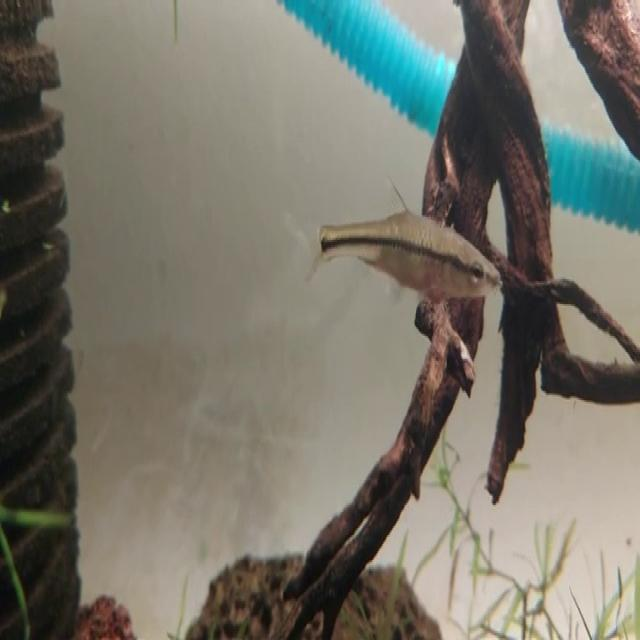Cakil Baligi: (288, 182, 502, 309)
